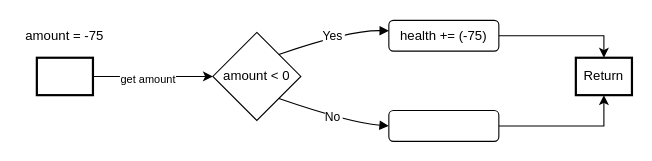
Some shapes in this 652 by 161 pixel diagram are drawn without their labels. The shapes that lost their labels are listed below. From the top down, each one's box as (x1, y1, x2, y2) in pixels, then its label:
(35, 56, 94, 96): Start
(388, 109, 499, 141): health += (+num)
